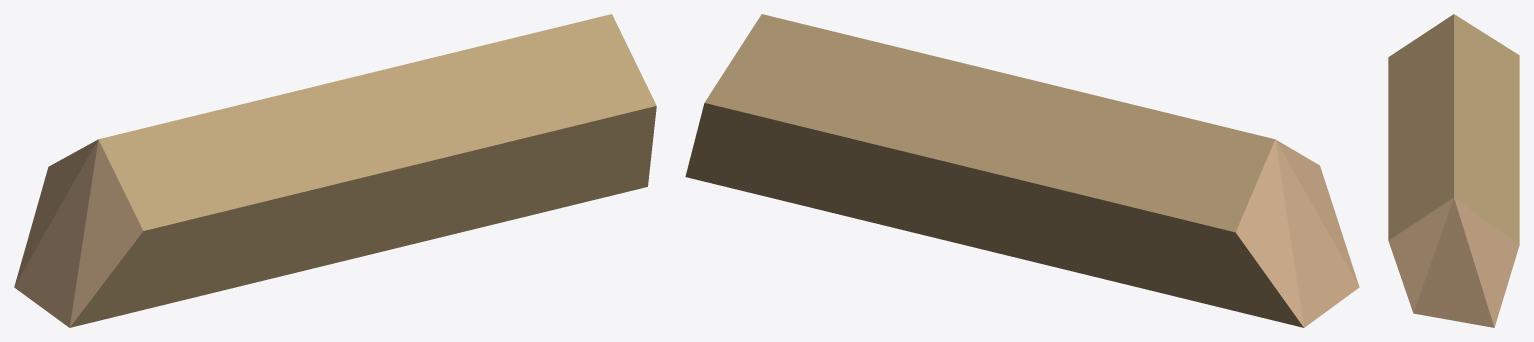
Rendered from Acacia_Firewood_01_LOD.fbx.
3 renders of one model, left to right at view 1: azimuth 30°, elevation 25°; view 2: azimuth 150°, elevation 25°; view 3: azimuth 270°, elevation 25°, orthographic. The views are drawn at different scales.
Parts seen in each view (by area): view 1: Acacia_Firewood_01_LOD0; view 2: Acacia_Firewood_01_LOD0; view 3: Acacia_Firewood_01_LOD0.
Boxes of the visible parts, x1,y1,x2,y2 form: Acacia_Firewood_01_LOD0: (14,14,656,327); Acacia_Firewood_01_LOD0: (685,14,1359,327); Acacia_Firewood_01_LOD0: (1388,14,1519,327).
Size of what is drawn, in the model's own units: 52.6 by 12.56 by 13.2.
